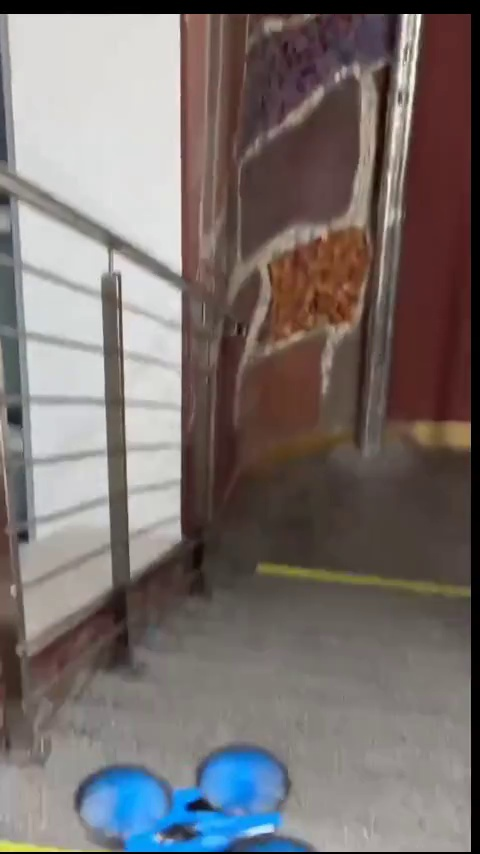drone: (68, 739, 333, 852)
